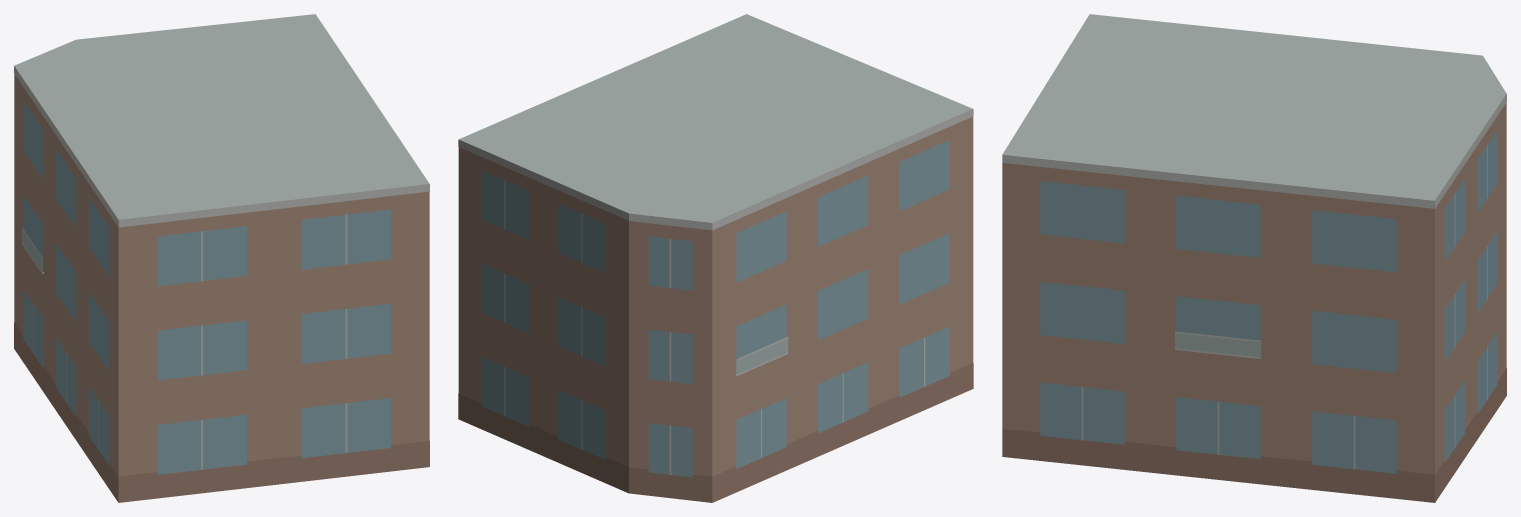
File: survey-upis-32737236.glb
The picture shows the model from 3 angles, left to right: view 1: azimuth 30°, elevation 25°; view 2: azimuth 150°, elevation 25°; view 3: azimuth 270°, elevation 25°; orthographic projection. The views are drawn at different scales.
Visible parts, largest first — view 1: survey-upis-32737236.tmp; view 2: survey-upis-32737236.tmp; view 3: survey-upis-32737236.tmp.
Boxes of the visible parts, x1,y1,x2,y2 form: survey-upis-32737236.tmp: (14, 14, 429, 502); survey-upis-32737236.tmp: (458, 14, 973, 502); survey-upis-32737236.tmp: (1002, 14, 1506, 502).
Size of the model in its own units: 12.15 by 9.15 by 13.87.
